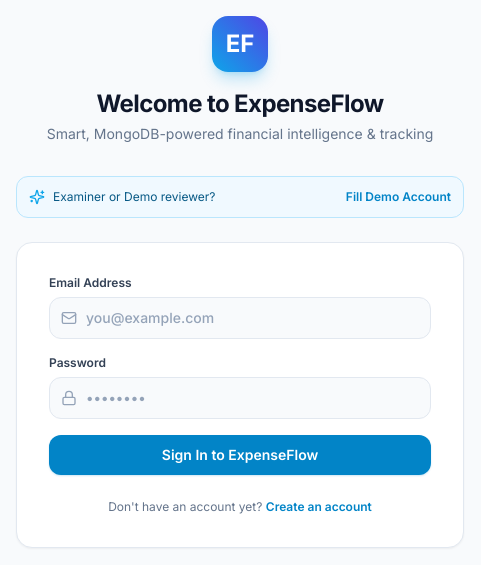
Test: LoginPage Component › should render login form and fill demo credentials upon clicking demo pill
The width and height of the screenshot is (481, 565).
Expected: the heading "Welcome to ExpenseFlow" is shown, [96,89,384,118]
Expected: the field with placeholder "you@example.com" is empty, [49,297,431,339]
# Click demo fill button
Click the button "Fill Demo Account".
click(398, 197)  # box [346,189,451,205]
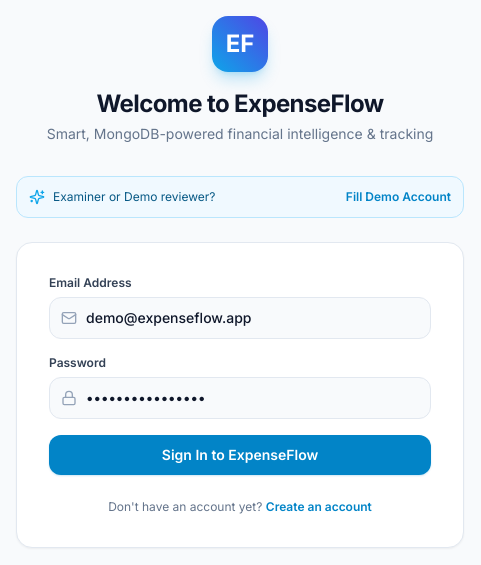
Result: the field with placeholder "you@example.com" holds "demo@expenseflow.app" at [49,297,431,339]
Result: the password field with placeholder "••••••••" holds "DemoPassword123!" at [49,377,431,419]
